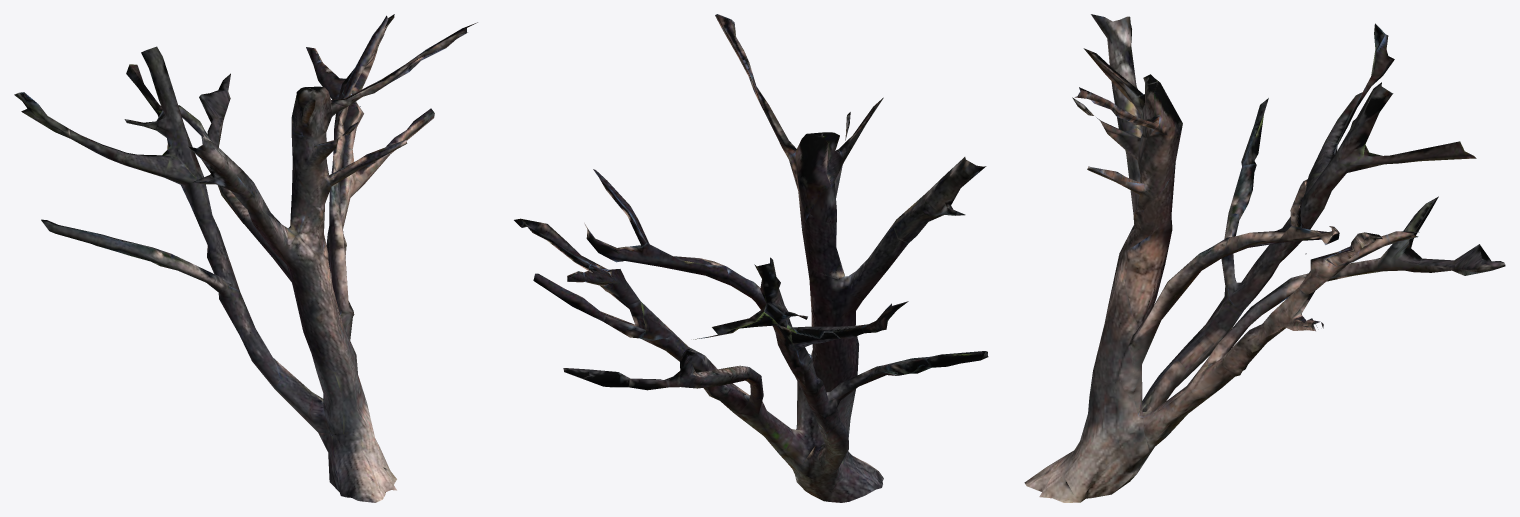
File: tree_snag_lean.glb
The picture shows the model from 3 angles, left to right: view 1: azimuth 30°, elevation 25°; view 2: azimuth 150°, elevation 25°; view 3: azimuth 270°, elevation 25°; orthographic projection. The views are drawn at different scales.
Parts seen in each view (by area): view 1: tree_snag_lean; view 2: tree_snag_lean; view 3: tree_snag_lean.
Part boxes in pixels (x1,y1,x2,y2): tree_snag_lean: (14,14,477,502); tree_snag_lean: (514,14,988,502); tree_snag_lean: (1024,14,1505,502).
Size of the model in its own units: 18.32 by 18.17 by 17.22.
Materials: 1 (1 with a texture image).
